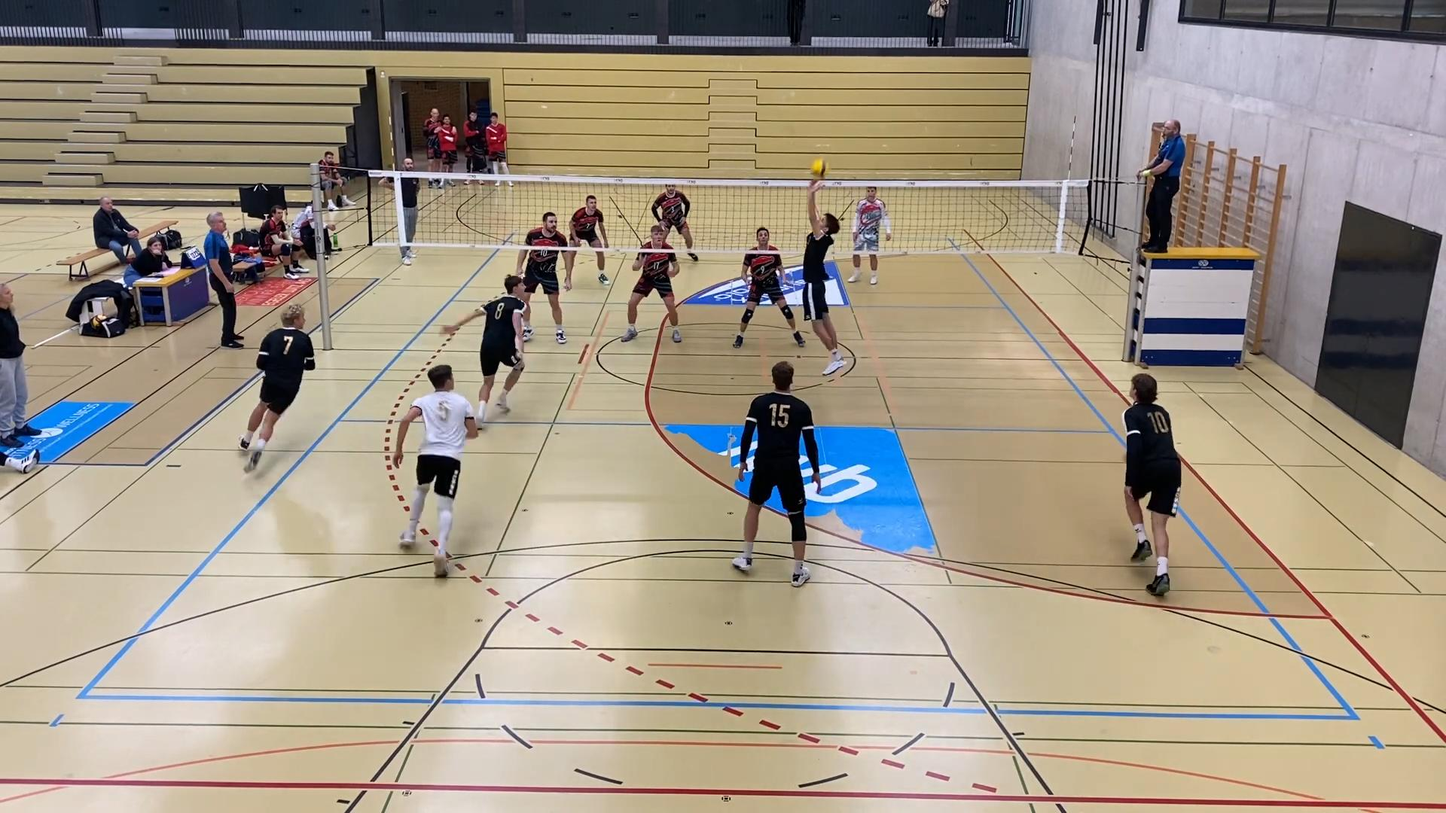alzata: (790, 194, 861, 384)
